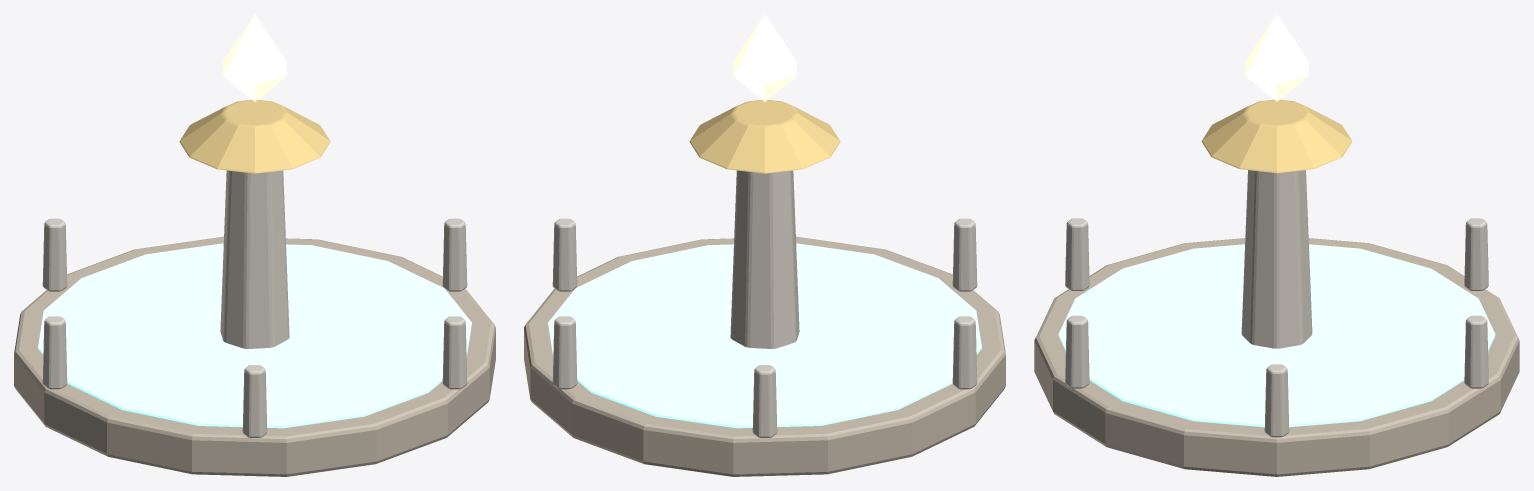
The model's file is fountain_dawn.glb.
The picture shows the model from 3 angles, left to right: view 1: azimuth 30°, elevation 25°; view 2: azimuth 150°, elevation 25°; view 3: azimuth 270°, elevation 25°; orthographic projection.
Parts seen in each view (by area): view 1: water, basin, pillar, bowl, orb, post0, post2, post3, post5, post4; view 2: water, basin, pillar, bowl, orb, post0, post4, post1, post3, post2; view 3: water, basin, pillar, bowl, orb, post1, post5, post2, post4, post0.
Part boxes in pixels (x1,y1,x2,y2): water: [38, 243, 471, 428]; basin: [14, 236, 495, 476]; pillar: [220, 170, 289, 348]; bowl: [179, 100, 330, 173]; orb: [223, 14, 286, 101]; post0: [442, 218, 467, 291]; post2: [42, 218, 67, 291]; post3: [42, 316, 67, 389]; post5: [442, 316, 467, 389]; post4: [242, 365, 267, 437]; water: [548, 243, 981, 428]; basin: [524, 236, 1005, 476]; pillar: [730, 170, 799, 348]; bowl: [689, 100, 840, 173]; orb: [733, 14, 796, 101]; post0: [552, 218, 577, 291]; post4: [952, 218, 977, 291]; post1: [552, 316, 577, 389]; post3: [952, 316, 977, 389]; post2: [752, 365, 777, 437]; water: [1058, 244, 1495, 427]; basin: [1034, 238, 1519, 476]; pillar: [1241, 170, 1312, 348]; bowl: [1201, 99, 1352, 173]; orb: [1245, 14, 1308, 101]; post1: [1464, 315, 1488, 388]; post5: [1065, 315, 1089, 388]; post2: [1464, 218, 1488, 290]; post4: [1065, 218, 1089, 290]; post0: [1264, 364, 1289, 437].
Size of the model in its own units: 6 by 4.94 by 6.
